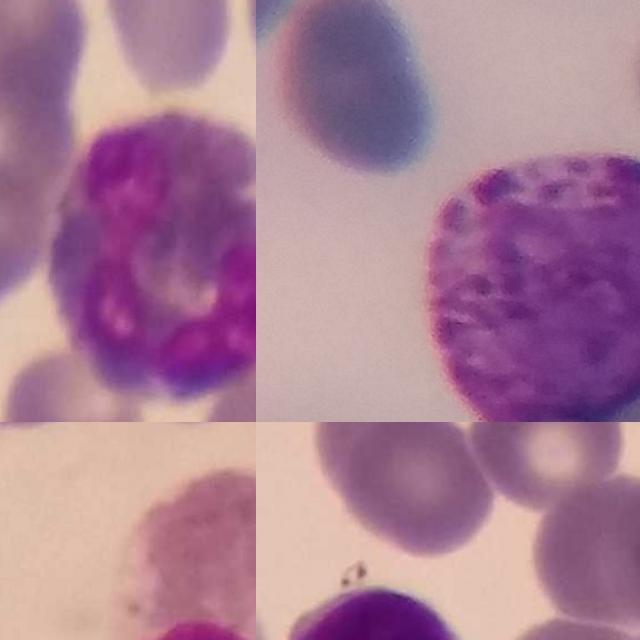Basophil: (424, 145, 640, 422)
Eosinophil: (46, 115, 256, 408), (106, 466, 256, 640)
Lymphocyte: (284, 586, 478, 640)
